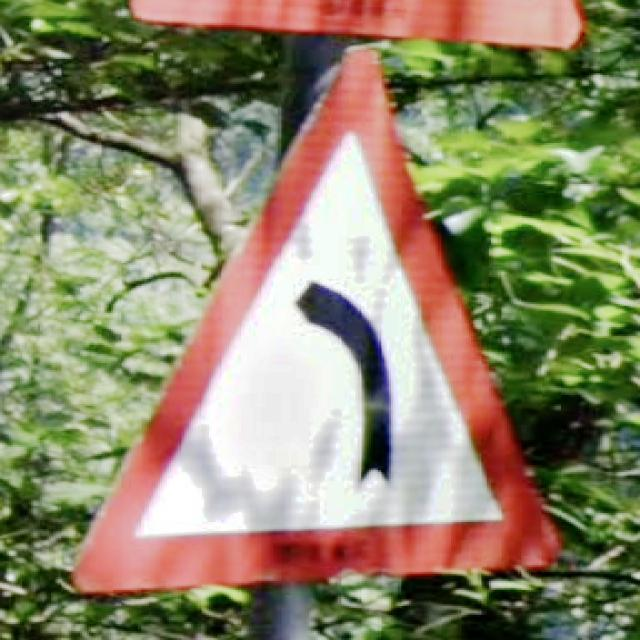leftbend: (71, 48, 560, 595)
